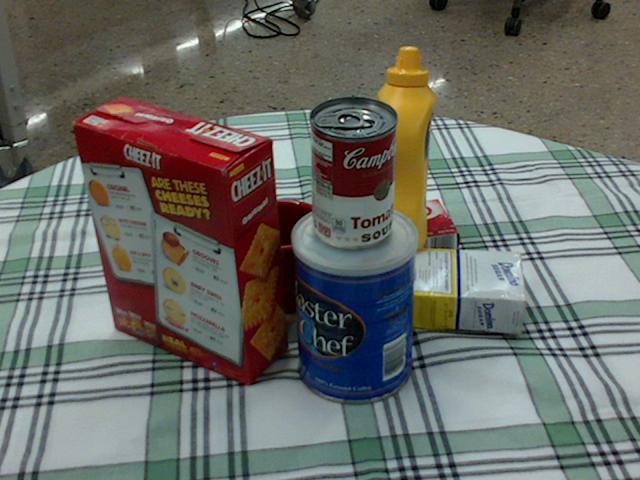cracker_box: (70, 99, 288, 383)
gelatin_box: (361, 199, 456, 263)
master_chef_can: (291, 202, 417, 404)
mug: (230, 200, 327, 314)
mustard_bottle: (370, 47, 434, 250)
potted_meat_can: (150, 200, 254, 287)
sugar_box: (336, 244, 528, 330)
tomato_soup_can: (307, 96, 395, 248)
tuna_fish_can: (166, 174, 253, 245)
